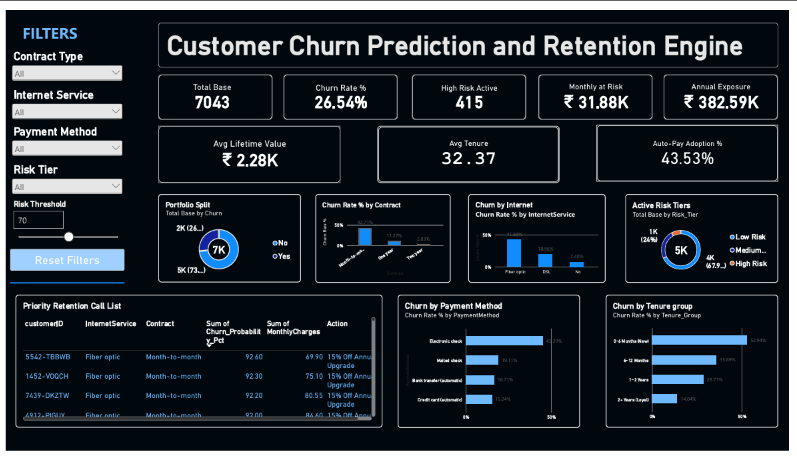

The dashboard page shown, as its layout file describes it:
{"tool":"powerbi","page":{"name":"Page 1","canvas":[1920,1080],"ordinal":0},"visuals":[{"type":"textbox","box":[10,0,280,280],"z":0},{"type":"textbox","box":[40,30,176,66],"z":1000},{"type":"slicer","fields":{"Values":["churn_predictions_full.Contract"]},"box":[10,96,280,110],"z":2000},{"type":"slicer","fields":{"Values":["churn_predictions_full.InternetService"]},"box":[10,190,280,106],"z":3000},{"type":"slicer","fields":{"Values":["Cleaned-Telco-Customer-Churn.PaymentMethod"]},"box":[10,280,280,94],"z":4000},{"type":"slicer","fields":{"Values":["churn_predictions_full.Risk_Tier"]},"box":[10,374,280,100],"z":5000},{"type":"slicer","fields":{"Values":["Risk Threshold.Risk Threshold"]},"box":[10,463,280,153],"z":6000},{"type":"actionButton","box":[10,585,280,52.5],"z":7000},{"type":"textbox","box":[10,697.5,280,52.5],"z":8000},{"type":"cardVisual","fields":{"Data":["churn_predictions_full.Total Base"]},"box":[373.3,156.7,280,111.7],"z":9000},{"type":"cardVisual","fields":{"Data":["Cleaned-Telco-Customer-Churn.Churn Rate %"]},"box":[680,156.7,280,111.7],"z":10000},{"type":"cardVisual","fields":{"Data":["Cleaned-Telco-Customer-Churn.High Risk Active"]},"box":[995,156.7,280,111.7],"z":11000},{"type":"cardVisual","fields":{"Data":["Cleaned-Telco-Customer-Churn.Monthly at Risk"]},"box":[1305,156.7,280,111.7],"z":12000},{"type":"cardVisual","fields":{"Data":["Cleaned-Telco-Customer-Churn.Annual Exposure"]},"box":[1611.7,156.7,280,111.7],"z":13000},{"type":"textbox","box":[372.5,30,1520,110],"z":14000},{"type":"cardVisual","fields":{"Data":["Cleaned-Telco-Customer-Churn.Avg Lifetime Value"]},"box":[373.3,283.3,446.7,140],"z":15000},{"type":"cardVisual","fields":{"Data":["Cleaned-Telco-Customer-Churn.Avg Tenure"]},"box":[910,283.3,446.7,140],"z":16000},{"type":"cardVisual","fields":{"Data":["Cleaned-Telco-Customer-Churn.Auto-Pay Adoption %"]},"box":[1446.7,280,446.7,140],"z":17000},{"type":"donutChart","title":"Portfolio Split","fields":{"Category":["churn_predictions_full.Churn"],"Y":["churn_predictions_full.Total Base"]},"box":[373.3,450,350,216.7],"z":18000},{"type":"clusteredColumnChart","fields":{"Category":["churn_predictions_full.Contract"],"Y":["Cleaned-Telco-Customer-Churn.Churn Rate %"]},"box":[757.5,450,332.5,217.5],"z":19000},{"type":"clusteredColumnChart","title":"Churn by Internet","fields":{"Category":["Cleaned-Telco-Customer-Churn.InternetService"],"Y":["Cleaned-Telco-Customer-Churn.Churn Rate %"]},"box":[1132.5,450,337.5,217.5],"z":20000},{"type":"donutChart","title":"Active Risk Tiers","fields":{"Category":["churn_predictions_full.Risk_Tier"],"Y":["churn_predictions_full.Total Base"]},"box":[1517.5,450,375,217.5],"z":21000},{"type":"tableEx","title":"Priority Retention Call List","fields":{"Values":["churn_predictions_full.customerID","churn_predictions_full.InternetService","churn_predictions_full.Contract","Sum(churn_predictions_full.Churn_Probability_Pct)","Sum(churn_predictions_full.MonthlyCharges)","churn_predictions_full.Action"]},"box":[23.3,696.7,900,326.7],"z":22000},{"type":"clusteredBarChart","title":"Churn by Payment Method","fields":{"Category":["Cleaned-Telco-Customer-Churn.PaymentMethod"],"Y":["Cleaned-Telco-Customer-Churn.Churn Rate %"]},"box":[960,696.7,447,327],"z":23000},{"type":"clusteredBarChart","title":"Churn by Tenure group","fields":{"Category":["churn_predictions_full.Tenure_Group"],"Y":["Cleaned-Telco-Customer-Churn.Churn Rate %"]},"box":[1470,696.7,423.3,326.7],"z":24000},{"type":"textbox","box":[1620,462.5,300,300],"z":26000},{"type":"textbox","box":[802.5,100,77.5,112.5],"z":27000},{"type":"shape","box":[10,653.3,280,30],"z":31000}]}

Visuals, with their boxes in screenshot pixels (x1, y1, x2, y2), scaled from the page's 1920x1080 canvas onto the 797x458 screenshot:
textbox: locate(4, 0, 120, 119)
textbox: locate(17, 13, 90, 41)
slicer - churn_predictions_full.Contract: locate(4, 41, 120, 87)
slicer - churn_predictions_full.InternetService: locate(4, 81, 120, 126)
slicer - Cleaned-Telco-Customer-Churn.PaymentMethod: locate(4, 119, 120, 159)
slicer - churn_predictions_full.Risk_Tier: locate(4, 159, 120, 201)
slicer - Risk Threshold.Risk Threshold: locate(4, 196, 120, 261)
actionButton: locate(4, 248, 120, 270)
textbox: locate(4, 296, 120, 318)
cardVisual - churn_predictions_full.Total Base: locate(155, 66, 271, 114)
cardVisual - Cleaned-Telco-Customer-Churn.Churn Rate %: locate(282, 66, 398, 114)
cardVisual - Cleaned-Telco-Customer-Churn.High Risk Active: locate(413, 66, 529, 114)
cardVisual - Cleaned-Telco-Customer-Churn.Monthly at Risk: locate(542, 66, 658, 114)
cardVisual - Cleaned-Telco-Customer-Churn.Annual Exposure: locate(669, 66, 785, 114)
textbox: locate(155, 13, 786, 59)
cardVisual - Cleaned-Telco-Customer-Churn.Avg Lifetime Value: locate(155, 120, 340, 180)
cardVisual - Cleaned-Telco-Customer-Churn.Avg Tenure: locate(378, 120, 563, 180)
cardVisual - Cleaned-Telco-Customer-Churn.Auto-Pay Adoption %: locate(601, 119, 786, 178)
"Portfolio Split" donutChart: locate(155, 191, 300, 283)
clusteredColumnChart - churn_predictions_full.Contract x Cleaned-Telco-Customer-Churn.Churn Rate %: locate(314, 191, 452, 283)
"Churn by Internet" clusteredColumnChart: locate(470, 191, 610, 283)
"Active Risk Tiers" donutChart: locate(630, 191, 786, 283)
"Priority Retention Call List" tableEx: locate(10, 295, 383, 434)
"Churn by Payment Method" clusteredBarChart: locate(398, 295, 584, 434)
"Churn by Tenure group" clusteredBarChart: locate(610, 295, 786, 434)
textbox: locate(672, 196, 796, 323)
textbox: locate(333, 42, 365, 90)
shape: locate(4, 277, 120, 290)
